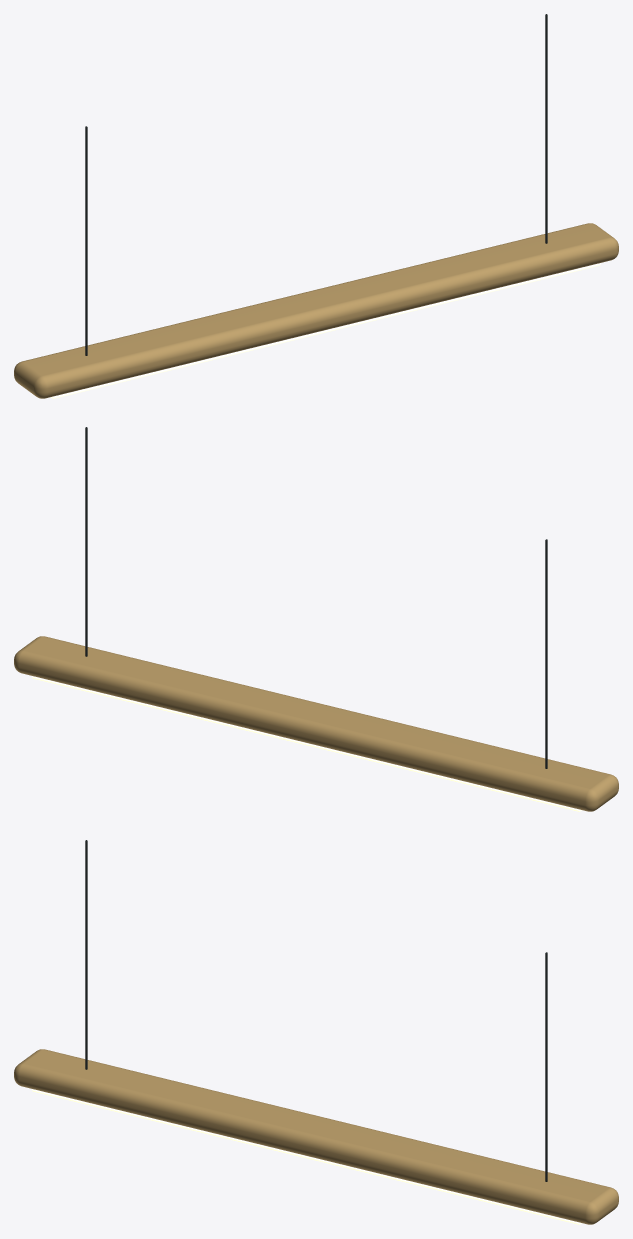
Rendered from modern-bar-table-pendant.glb.
3 views of the same model, one above another, from view 1: azimuth 30°, elevation 25°; view 2: azimuth 150°, elevation 25°; view 3: azimuth 330°, elevation 25° (orthographic).
Visible parts, largest first — view 1: modern-bar-table-pendant - Modern Bar satin brass luminaire , modern-bar-table-pendant - Modern Bar warm LED diffuser runt, modern-bar-table-pendant - Modern Bar powder coated charcoal; view 2: modern-bar-table-pendant - Modern Bar satin brass luminaire , modern-bar-table-pendant - Modern Bar warm LED diffuser runt, modern-bar-table-pendant - Modern Bar powder coated charcoal; view 3: modern-bar-table-pendant - Modern Bar satin brass luminaire , modern-bar-table-pendant - Modern Bar warm LED diffuser runt, modern-bar-table-pendant - Modern Bar powder coated charcoal.
Boxes of the visible parts, box(x1,y1,x2,y2) form: modern-bar-table-pendant - Modern Bar satin brass luminaire : box(14, 223, 618, 398); modern-bar-table-pendant - Modern Bar warm LED diffuser runt: box(51, 263, 600, 398); modern-bar-table-pendant - Modern Bar powder coated charcoal: box(85, 14, 547, 355); modern-bar-table-pendant - Modern Bar satin brass luminaire : box(14, 636, 618, 811); modern-bar-table-pendant - Modern Bar warm LED diffuser runt: box(32, 676, 581, 811); modern-bar-table-pendant - Modern Bar powder coated charcoal: box(85, 427, 547, 768); modern-bar-table-pendant - Modern Bar satin brass luminaire : box(14, 1049, 618, 1224); modern-bar-table-pendant - Modern Bar warm LED diffuser runt: box(32, 1089, 581, 1224); modern-bar-table-pendant - Modern Bar powder coated charcoal: box(85, 840, 547, 1181).
Size of the model in its own units: 1.65 by 0.688 by 0.14.
